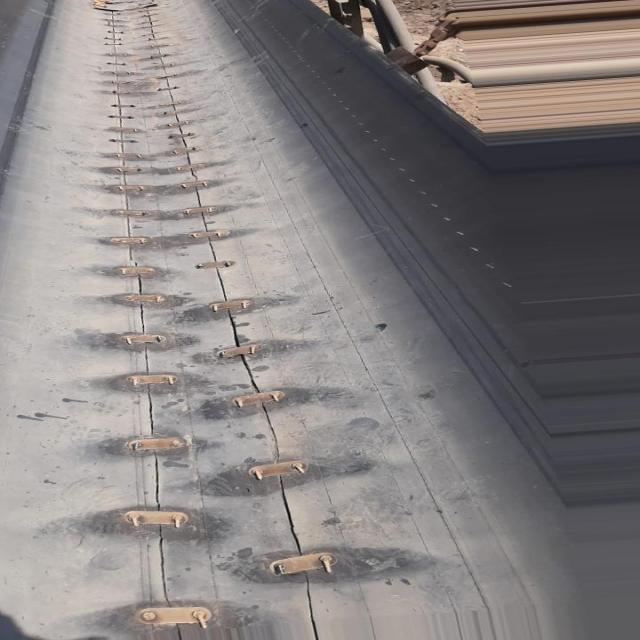Roller: (380, 45, 431, 76)
patch work: (78, 0, 371, 638)
